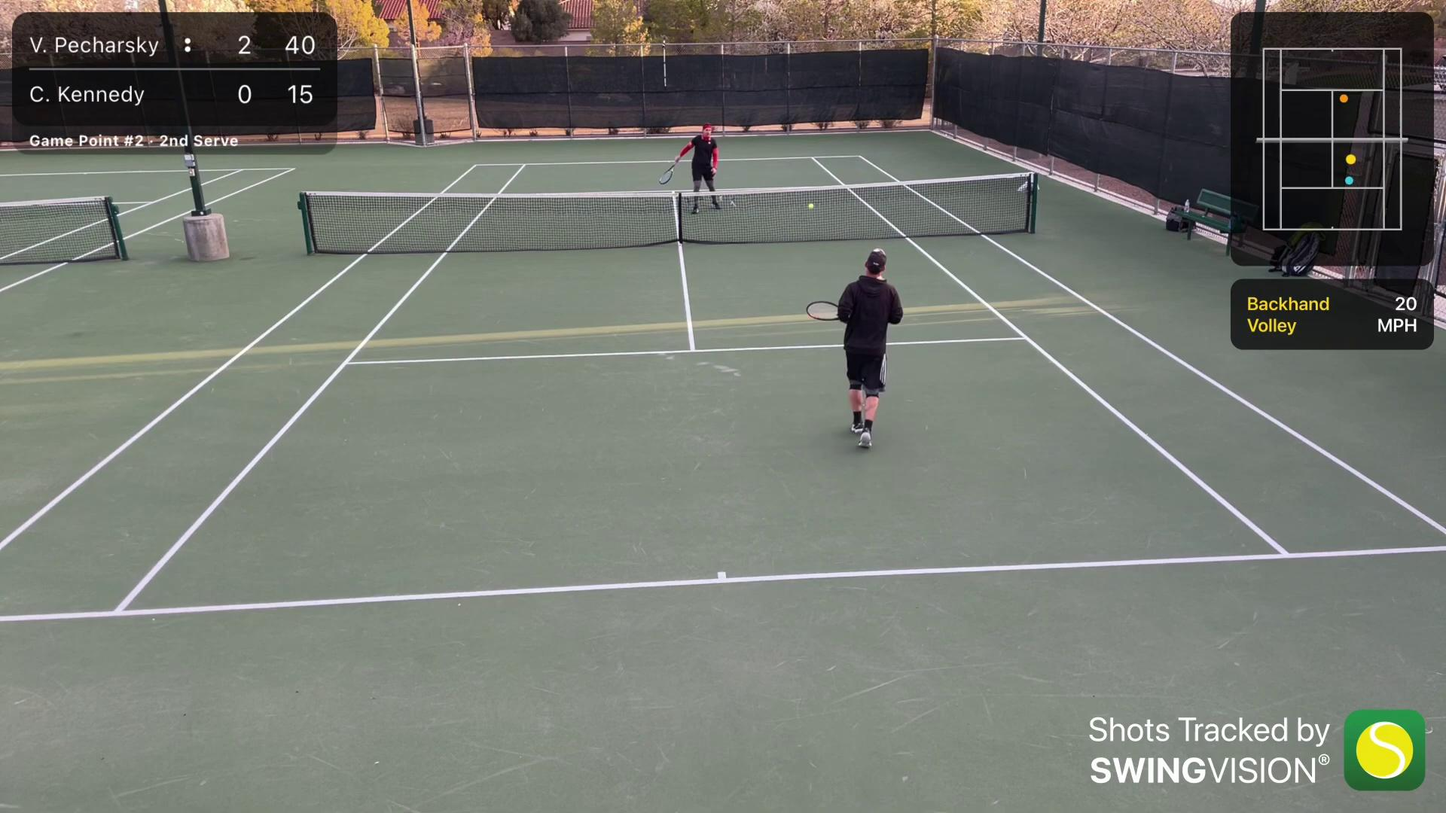ball: (805, 202, 815, 210)
